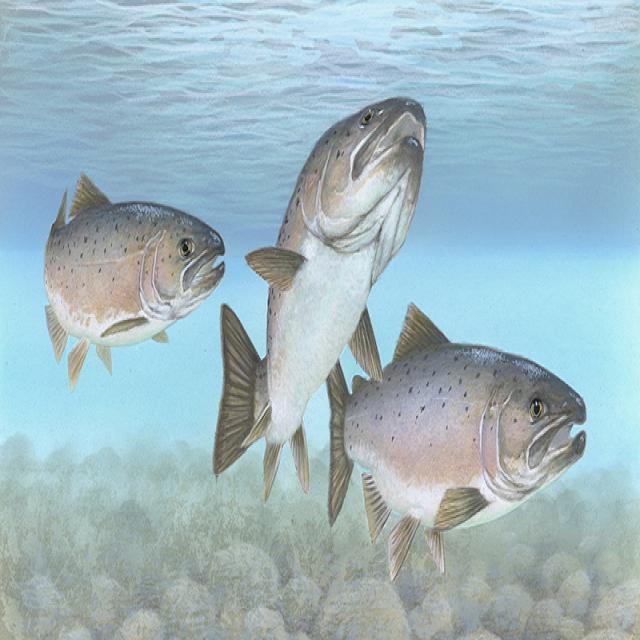salmon: (212, 79, 432, 525), (322, 306, 591, 578), (38, 168, 235, 396)
